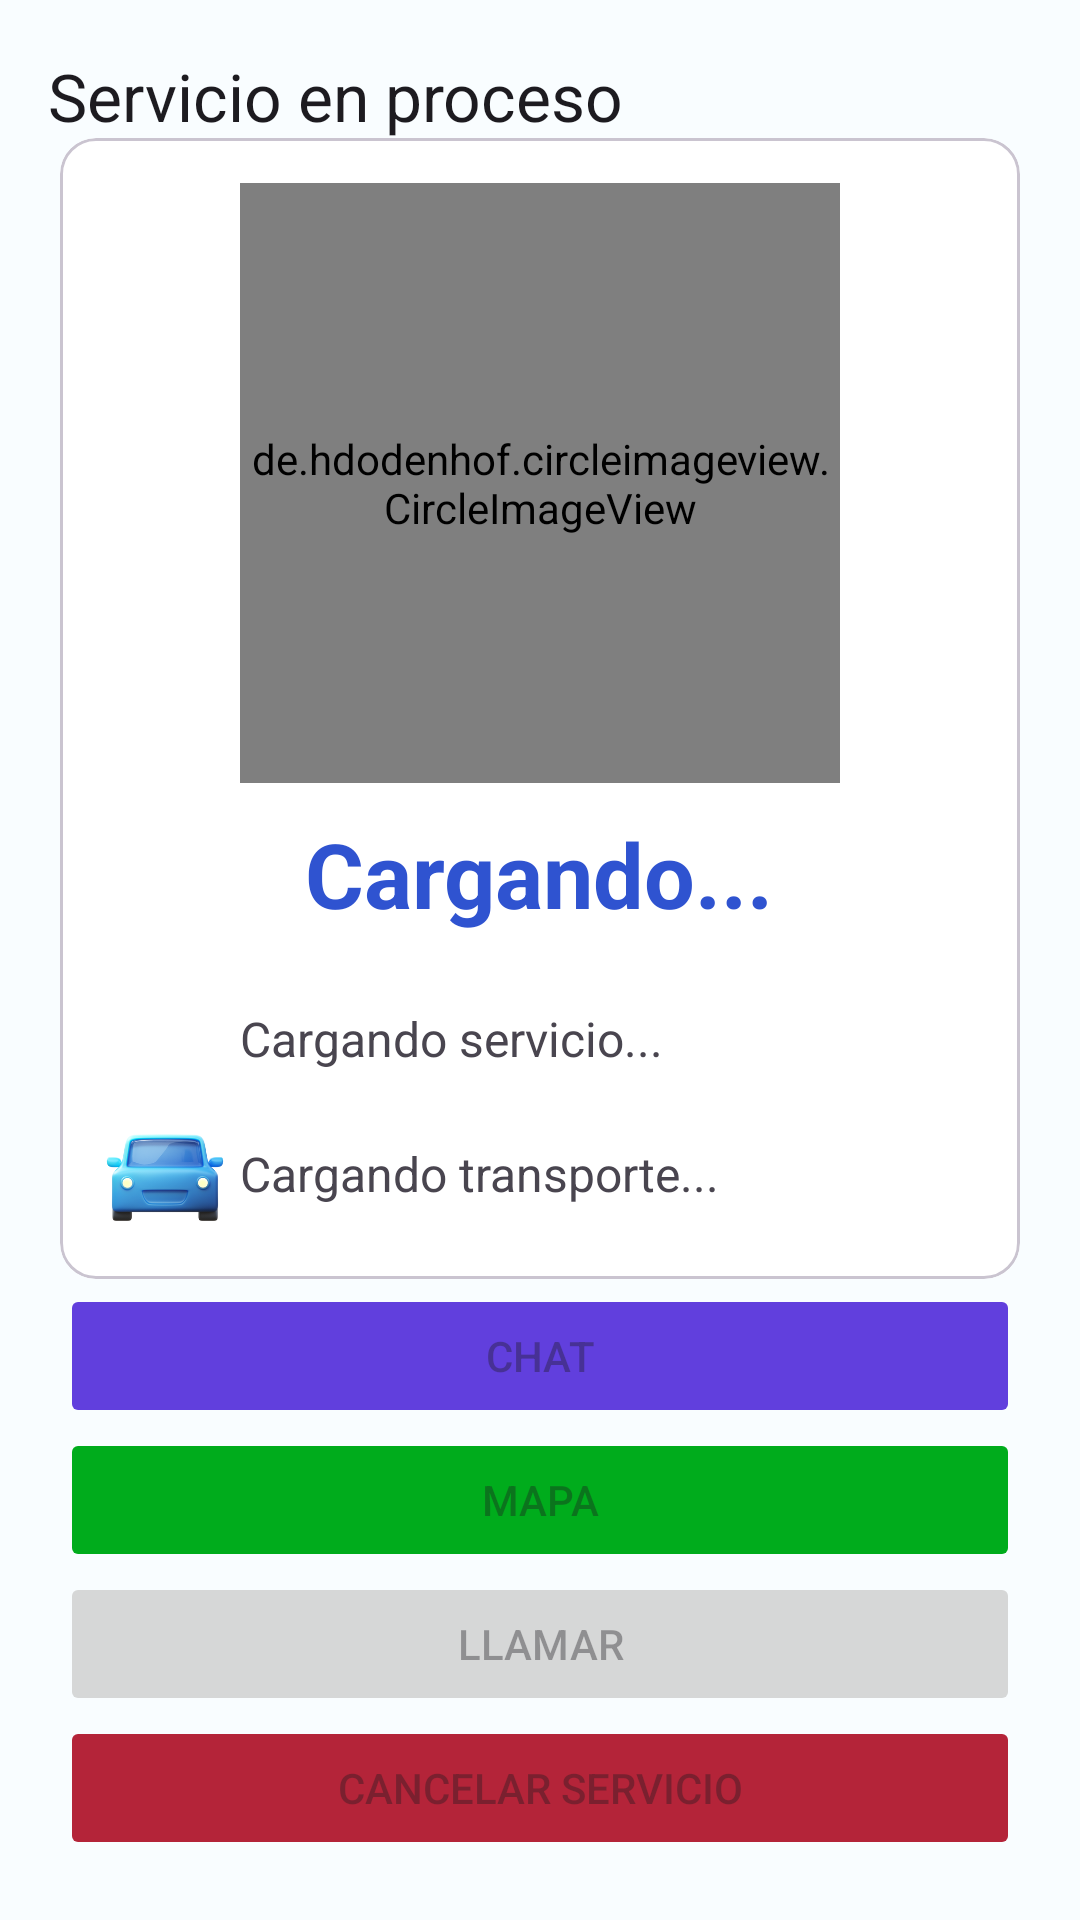

Icons on this 1080x1920 Android screen, each with its box as (x1, y1, x2, y2):
ilus transport: (107, 1134, 223, 1221)
